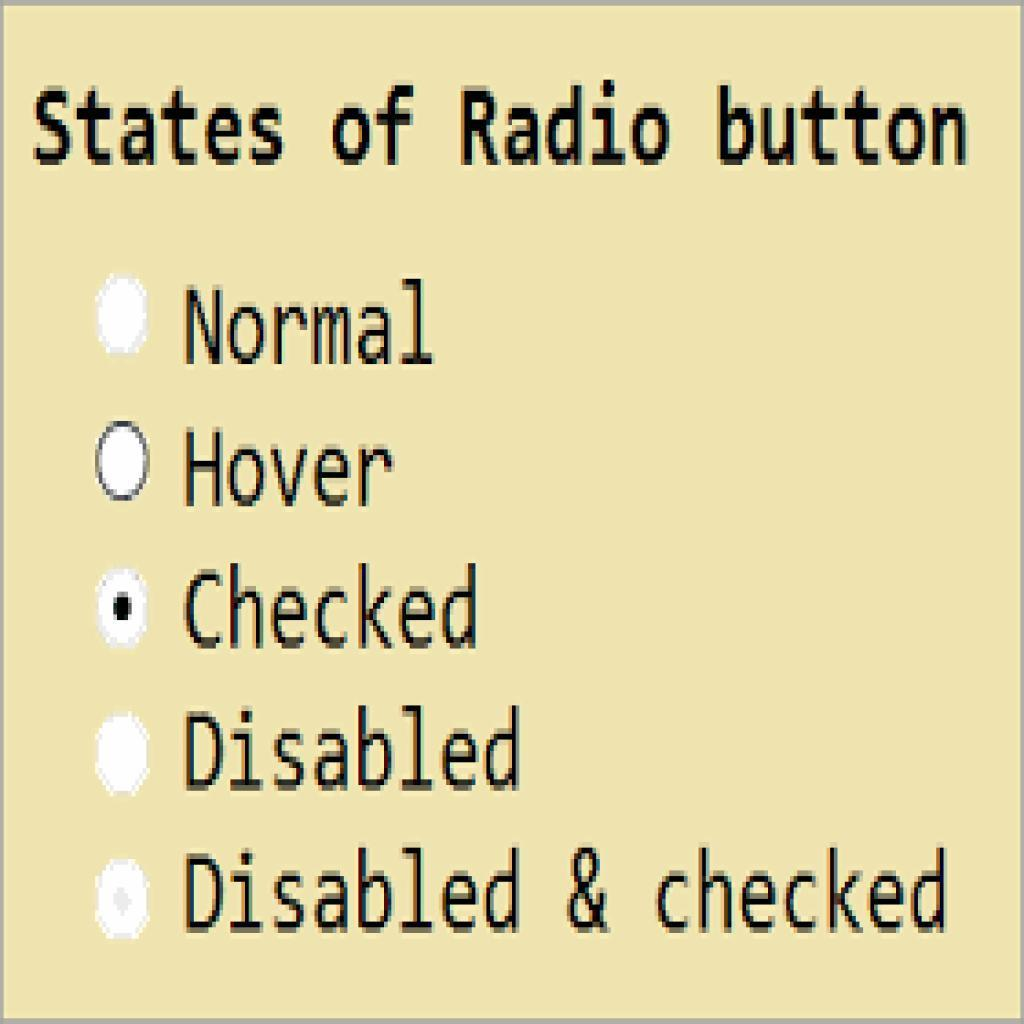label: (180, 841, 952, 943), (177, 695, 528, 801), (182, 555, 485, 658), (177, 274, 443, 377), (177, 420, 401, 519)
radio: (95, 568, 152, 651), (95, 421, 150, 502), (97, 860, 149, 944), (100, 273, 150, 359), (97, 717, 150, 796)
